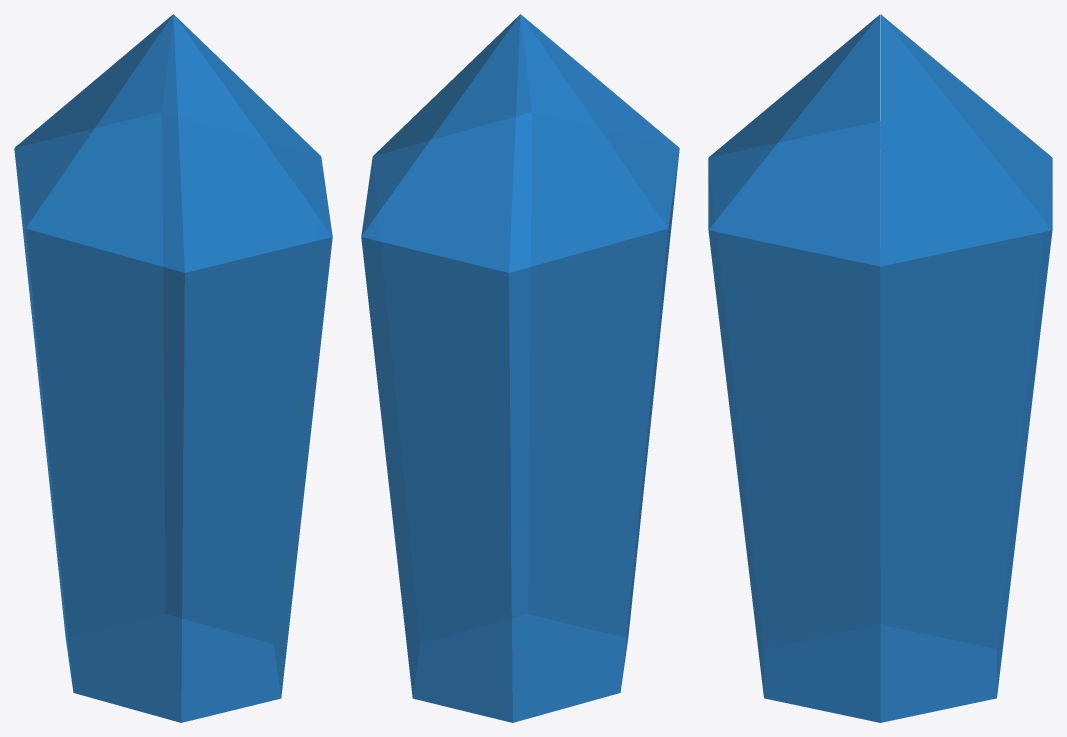
File: SM_Crystal_Blue.fbx
3 renders of one model, left to right at view 1: azimuth 30°, elevation 25°; view 2: azimuth 150°, elevation 25°; view 3: azimuth 270°, elevation 25°, orthographic.
Visible parts, largest first — view 1: Crystal_Blue.001; view 2: Crystal_Blue.001; view 3: Crystal_Blue.001.
Part boxes in pixels (x1=…): Crystal_Blue.001: x1=14, y1=14, x2=332, y2=722; Crystal_Blue.001: x1=361, y1=14, x2=679, y2=722; Crystal_Blue.001: x1=708, y1=14, x2=1052, y2=722.
Bounding box in the file's own units: 150 × 317 × 150.
